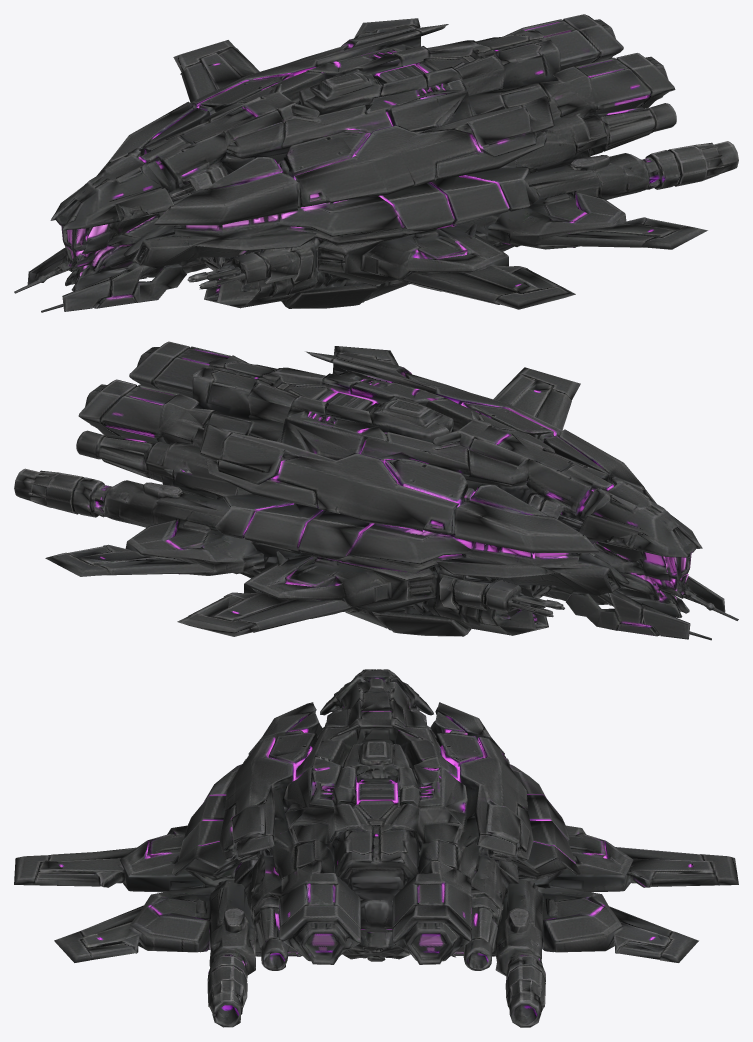
File: citadel_behemoth_hull.glb
3 renders of one model, top to bottom at view 1: azimuth 30°, elevation 25°; view 2: azimuth 150°, elevation 25°; view 3: azimuth 270°, elevation 25°, orthographic. The views are drawn at different scales.
Visible parts, largest first — view 1: citadel_behemoth_hull; view 2: citadel_behemoth_hull; view 3: citadel_behemoth_hull.
Boxes of the visible parts, x1,y1,x2,y2 form: citadel_behemoth_hull: (14,14,738,312); citadel_behemoth_hull: (14,341,738,640); citadel_behemoth_hull: (14,669,738,1027).
Bounding box in the file's own units: 2.35 × 0.6312 × 2.24.
1 material, 1 textured.
